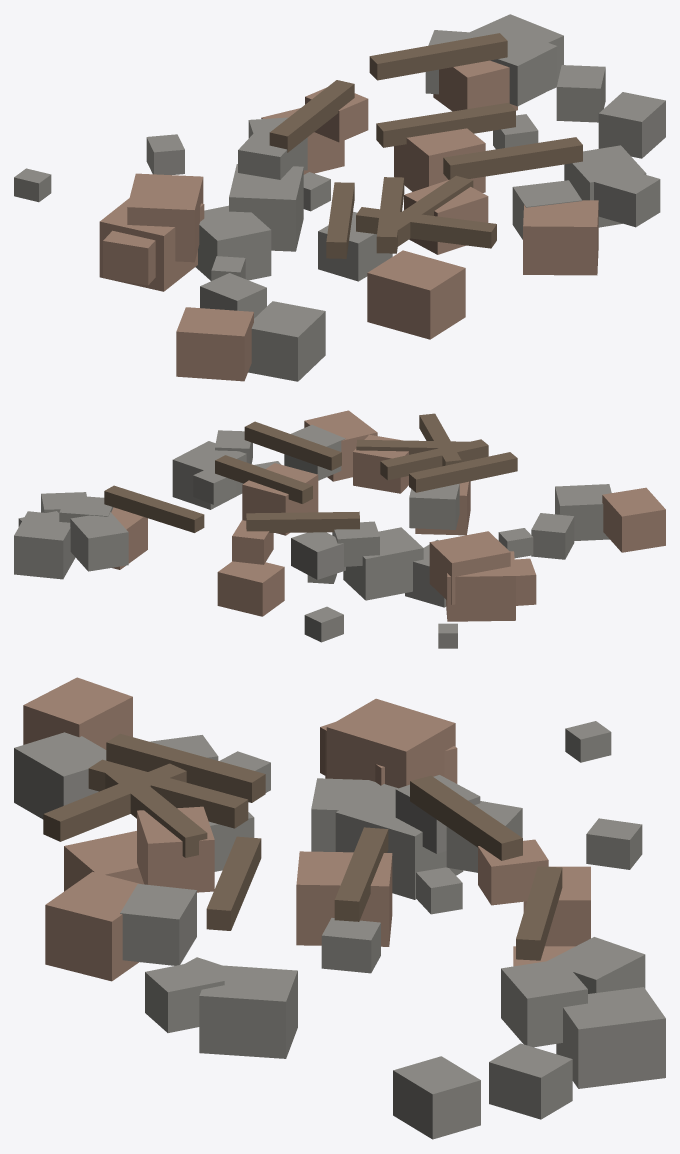
The model's file is ziegelschutt.glb.
3 views of the same model, one above another, from view 1: azimuth 30°, elevation 25°; view 2: azimuth 150°, elevation 25°; view 3: azimuth 270°, elevation 25° (orthographic). The views are drawn at different scales.
Visible parts, largest first — view 1: part_012, part_030, part_009, part_008, part_027, part_010, part_023, part_036, part_000, part_032, part_007, part_037 (+27 smaller); view 2: part_010, part_021, part_031, part_009, part_027, part_018, part_026, part_000, part_008, part_035, part_034, part_036 (+25 smaller); view 3: part_031, part_027, part_028, part_030, part_007, part_000, part_008, part_020, part_009, part_002, part_010, part_025 (+25 smaller).
Part boxes in pixels (<box>): part_012: <box>367,250,465,339</box>; part_030: <box>523,200,598,275</box>; part_009: <box>176,307,253,381</box>; part_008: <box>248,301,325,381</box>; part_027: <box>127,173,203,262</box>; part_010: <box>229,164,303,251</box>; part_023: <box>195,205,271,280</box>; part_036: <box>369,33,507,80</box>; part_000: <box>394,128,485,192</box>; part_032: <box>443,137,582,179</box>; part_007: <box>598,92,665,158</box>; part_037: <box>376,102,515,147</box>; part_010: <box>343,527,423,600</box>; part_021: <box>446,551,515,621</box>; part_031: <box>14,511,75,579</box>; part_009: <box>602,487,665,552</box>; part_027: <box>429,531,510,604</box>; part_018: <box>217,561,284,616</box>; part_026: <box>70,512,128,571</box>; part_000: <box>242,463,318,535</box>; part_008: <box>555,484,611,540</box>; part_035: <box>409,452,517,492</box>; part_034: <box>246,511,359,532</box>; part_036: <box>104,485,204,532</box>; part_031: <box>556,987,665,1088</box>; part_027: <box>326,698,455,788</box>; part_028: <box>199,964,297,1058</box>; part_030: <box>45,871,139,981</box>; part_007: <box>393,1056,480,1139</box>; part_000: <box>296,851,392,946</box>; part_008: <box>14,732,106,819</box>; part_020: <box>501,959,587,1047</box>; part_009: <box>23,677,132,749</box>; part_002: <box>120,884,196,965</box>; part_010: <box>335,784,463,899</box>; part_025: <box>489,1043,572,1119</box>.
Bounding box in the file's own units: 3.63 × 0.5573 × 2.62.
